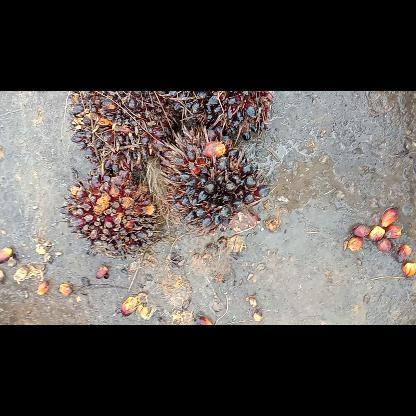TBS abnormal: (155, 124, 273, 232), (158, 90, 276, 148)
TBS masak: (56, 159, 167, 259), (65, 91, 175, 177)
